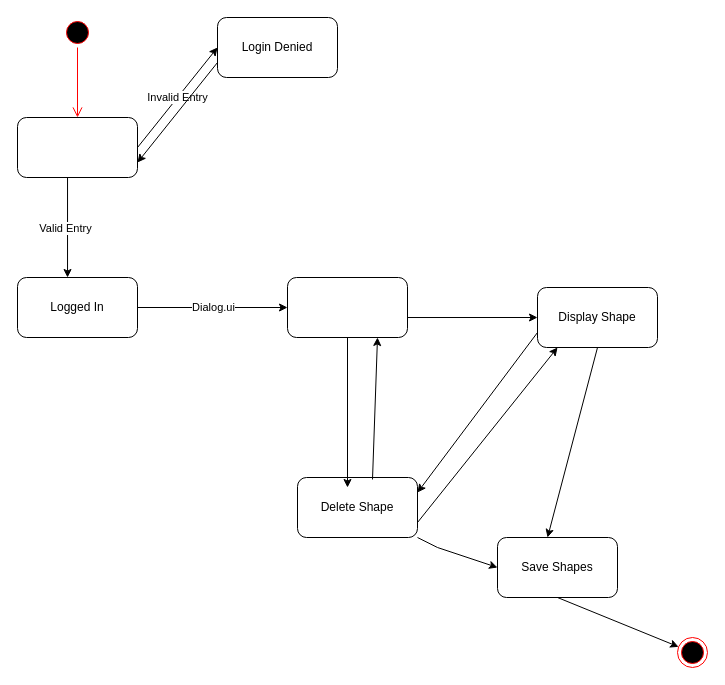
Image size: 725x685. Some labels were removed from this diagram. Here are the shapes that lost their labels. From the top down, the centre of each, then its label:
the point at 77,147: Logging in
the point at 347,307: Enter Shape
